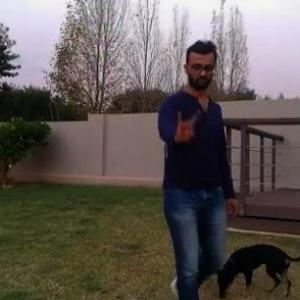takeoff-hand: (165, 105, 204, 146)
